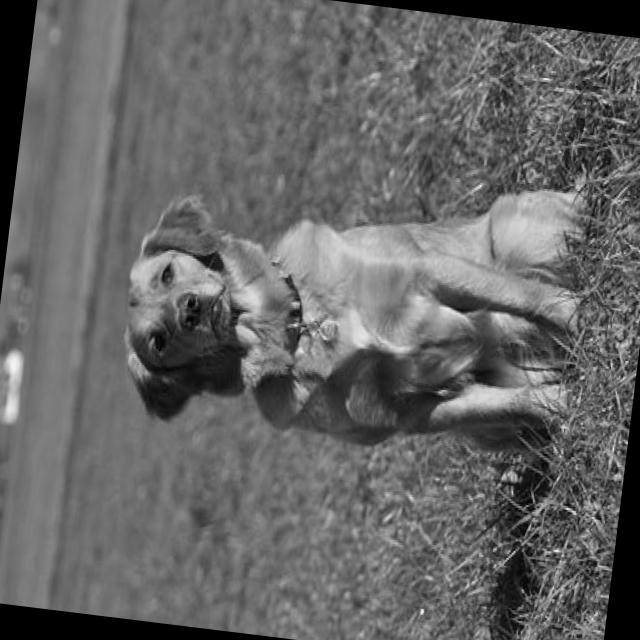sitting: (102, 121, 609, 500)
